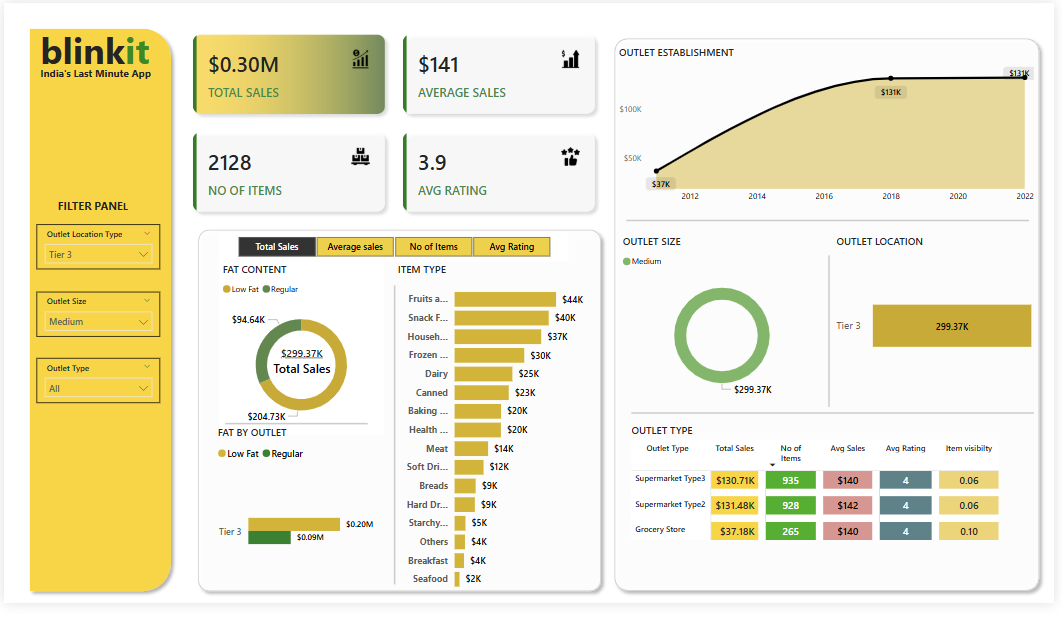

The page's visual inventory and layout, read from the dashboard file:
{"tool":"powerbi","page":{"name":"Page 1","canvas":[1400,800],"ordinal":0},"visuals":[{"type":"shape","box":[25,25,206.7,768.3],"z":0},{"type":"textbox","box":[43,25,330,63],"z":1000},{"type":"textbox","box":[43.3,80,176.7,28.9],"z":2000},{"type":"cardVisual","fields":{"Data":["BlinkIT Grocery Data.Total Sales","BlinkIT Grocery Data.Average Time","BlinkIT Grocery Data.No of Items","BlinkIT Grocery Data.Avg Rating"]},"box":[235.7,25.7,570,270],"z":3000},{"type":"shape","box":[250,292.5,555,500],"z":4000},{"type":"donutChart","title":"FAT CONTENT","fields":{"Y":["BlinkIT Grocery Data.Total Sales"],"Category":["BlinkIT Grocery Data.Item Fat Content"]},"box":[287.1,344.3,220,230],"z":5000},{"type":"slicer","fields":{"Values":["Metrics.Metrics"]},"box":[287.1,304.3,465.7,40],"z":6000},{"type":"cardVisual","fields":{"Data":["BlinkIT Grocery Data.Total Sales"]},"box":[335.7,438.6,124.3,77.1],"z":7000},{"type":"clusteredBarChart","title":"FAT BY OUTLET","fields":{"Y":["BlinkIT Grocery Data.Total Sales"],"Category":["BlinkIT Grocery Data.Outlet Location Type"],"Series":["BlinkIT Grocery Data.Item Fat Content"]},"box":[280,562.9,220,230],"z":8000},{"type":"shape","box":[295,542.5,190,35],"z":9000},{"type":"shape","box":[506.7,376.7,28.3,398.3],"z":10000},{"type":"barChart","title":"ITEM TYPE","fields":{"Y":["BlinkIT Grocery Data.Total Sales"],"Category":["BlinkIT Grocery Data.Item Type"]},"box":[520,344.3,272.9,448.6],"z":11000},{"type":"shape","box":[805.7,38.6,584.3,754.3],"z":12000},{"type":"lineChart","title":"OUTLET ESTABLISHMENT","fields":{"Category":["BlinkIT Grocery Data.Outlet Establishment Year"],"Y":["BlinkIT Grocery Data.Total Sales"]},"box":[815,56.7,563.3,218.3],"z":13000},{"type":"shape","box":[830,255,536.7,70],"z":14000},{"type":"donutChart","title":"OUTLET SIZE","fields":{"Y":["BlinkIT Grocery Data.Total Sales"],"Category":["BlinkIT Grocery Data.Outlet Size"]},"box":[820,308.3,275,225],"z":15000},{"type":"shape","box":[1091.7,336.7,16.7,201.7],"z":16000},{"type":"funnel","title":"OUTLET LOCATION","fields":{"Y":["Sum(BlinkIT Grocery Data.Sales)"],"Category":["BlinkIT Grocery Data.Outlet Location Type"]},"box":[1105,308.3,275,225],"z":17000},{"type":"shape","box":[836.7,511.7,536.7,70],"z":18000},{"type":"pivotTable","title":"OUTLET TYPE","fields":{"Rows":["BlinkIT Grocery Data.Outlet Type"],"Values":["BlinkIT Grocery Data.Total Sales","BlinkIT Grocery Data.No of Items","BlinkIT Grocery Data.Average sales","BlinkIT Grocery Data.Avg Rating","Avg(BlinkIT Grocery Data.Item Visibility)"]},"box":[831.7,560,546.7,226.7],"z":19000},{"type":"slicer","fields":{"Values":["BlinkIT Grocery Data.Outlet Location Type"]},"box":[43.3,295,165,60],"z":20000},{"type":"slicer","fields":{"Values":["BlinkIT Grocery Data.Outlet Size"]},"box":[43.3,385,165,60],"z":21000},{"type":"slicer","fields":{"Values":["BlinkIT Grocery Data.Outlet Type"]},"box":[43.3,473.3,165,60],"z":22000},{"type":"textbox","box":[66.7,255,118.3,35],"z":23000}]}

Visuals, with their boxes in screenshot pixels (x1, y1, x2, y2), scaled from the page's 1400x800 canvas onto the 1062x617 screenshot:
shape: l=19, t=19, r=176, b=612
textbox: l=33, t=19, r=283, b=68
textbox: l=33, t=62, r=167, b=84
cardVisual - BlinkIT Grocery Data.Total Sales x BlinkIT Grocery Data.Average Time: l=179, t=20, r=611, b=228
shape: l=190, t=226, r=611, b=611
"FAT CONTENT" donutChart: l=218, t=266, r=385, b=443
slicer - Metrics.Metrics: l=218, t=235, r=571, b=266
cardVisual - BlinkIT Grocery Data.Total Sales: l=255, t=338, r=349, b=398
"FAT BY OUTLET" clusteredBarChart: l=212, t=434, r=379, b=612
shape: l=224, t=418, r=368, b=445
shape: l=384, t=291, r=406, b=598
"ITEM TYPE" barChart: l=394, t=266, r=601, b=612
shape: l=611, t=30, r=1054, b=612
"OUTLET ESTABLISHMENT" lineChart: l=618, t=44, r=1046, b=212
shape: l=630, t=197, r=1037, b=251
"OUTLET SIZE" donutChart: l=622, t=238, r=831, b=411
shape: l=828, t=260, r=841, b=415
"OUTLET LOCATION" funnel: l=838, t=238, r=1047, b=411
shape: l=635, t=395, r=1042, b=449
"OUTLET TYPE" pivotTable: l=631, t=432, r=1046, b=607
slicer - BlinkIT Grocery Data.Outlet Location Type: l=33, t=228, r=158, b=274
slicer - BlinkIT Grocery Data.Outlet Size: l=33, t=297, r=158, b=343
slicer - BlinkIT Grocery Data.Outlet Type: l=33, t=365, r=158, b=411
textbox: l=51, t=197, r=140, b=224
